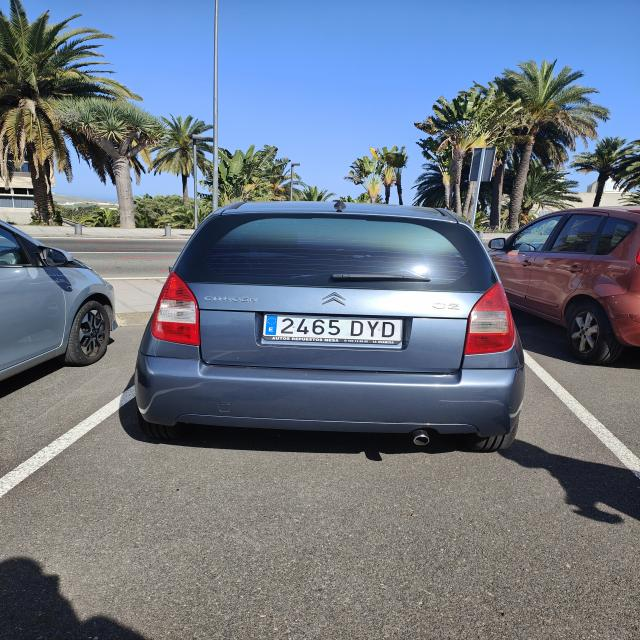License-Plate: (263, 312, 402, 342)
